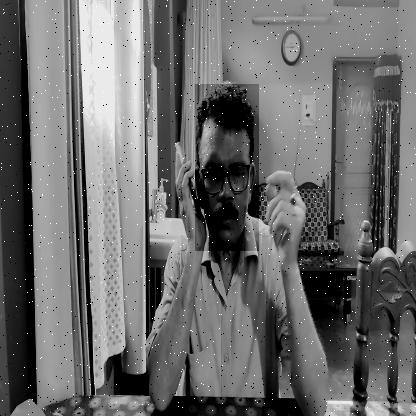Normal: (195, 84, 259, 251)
